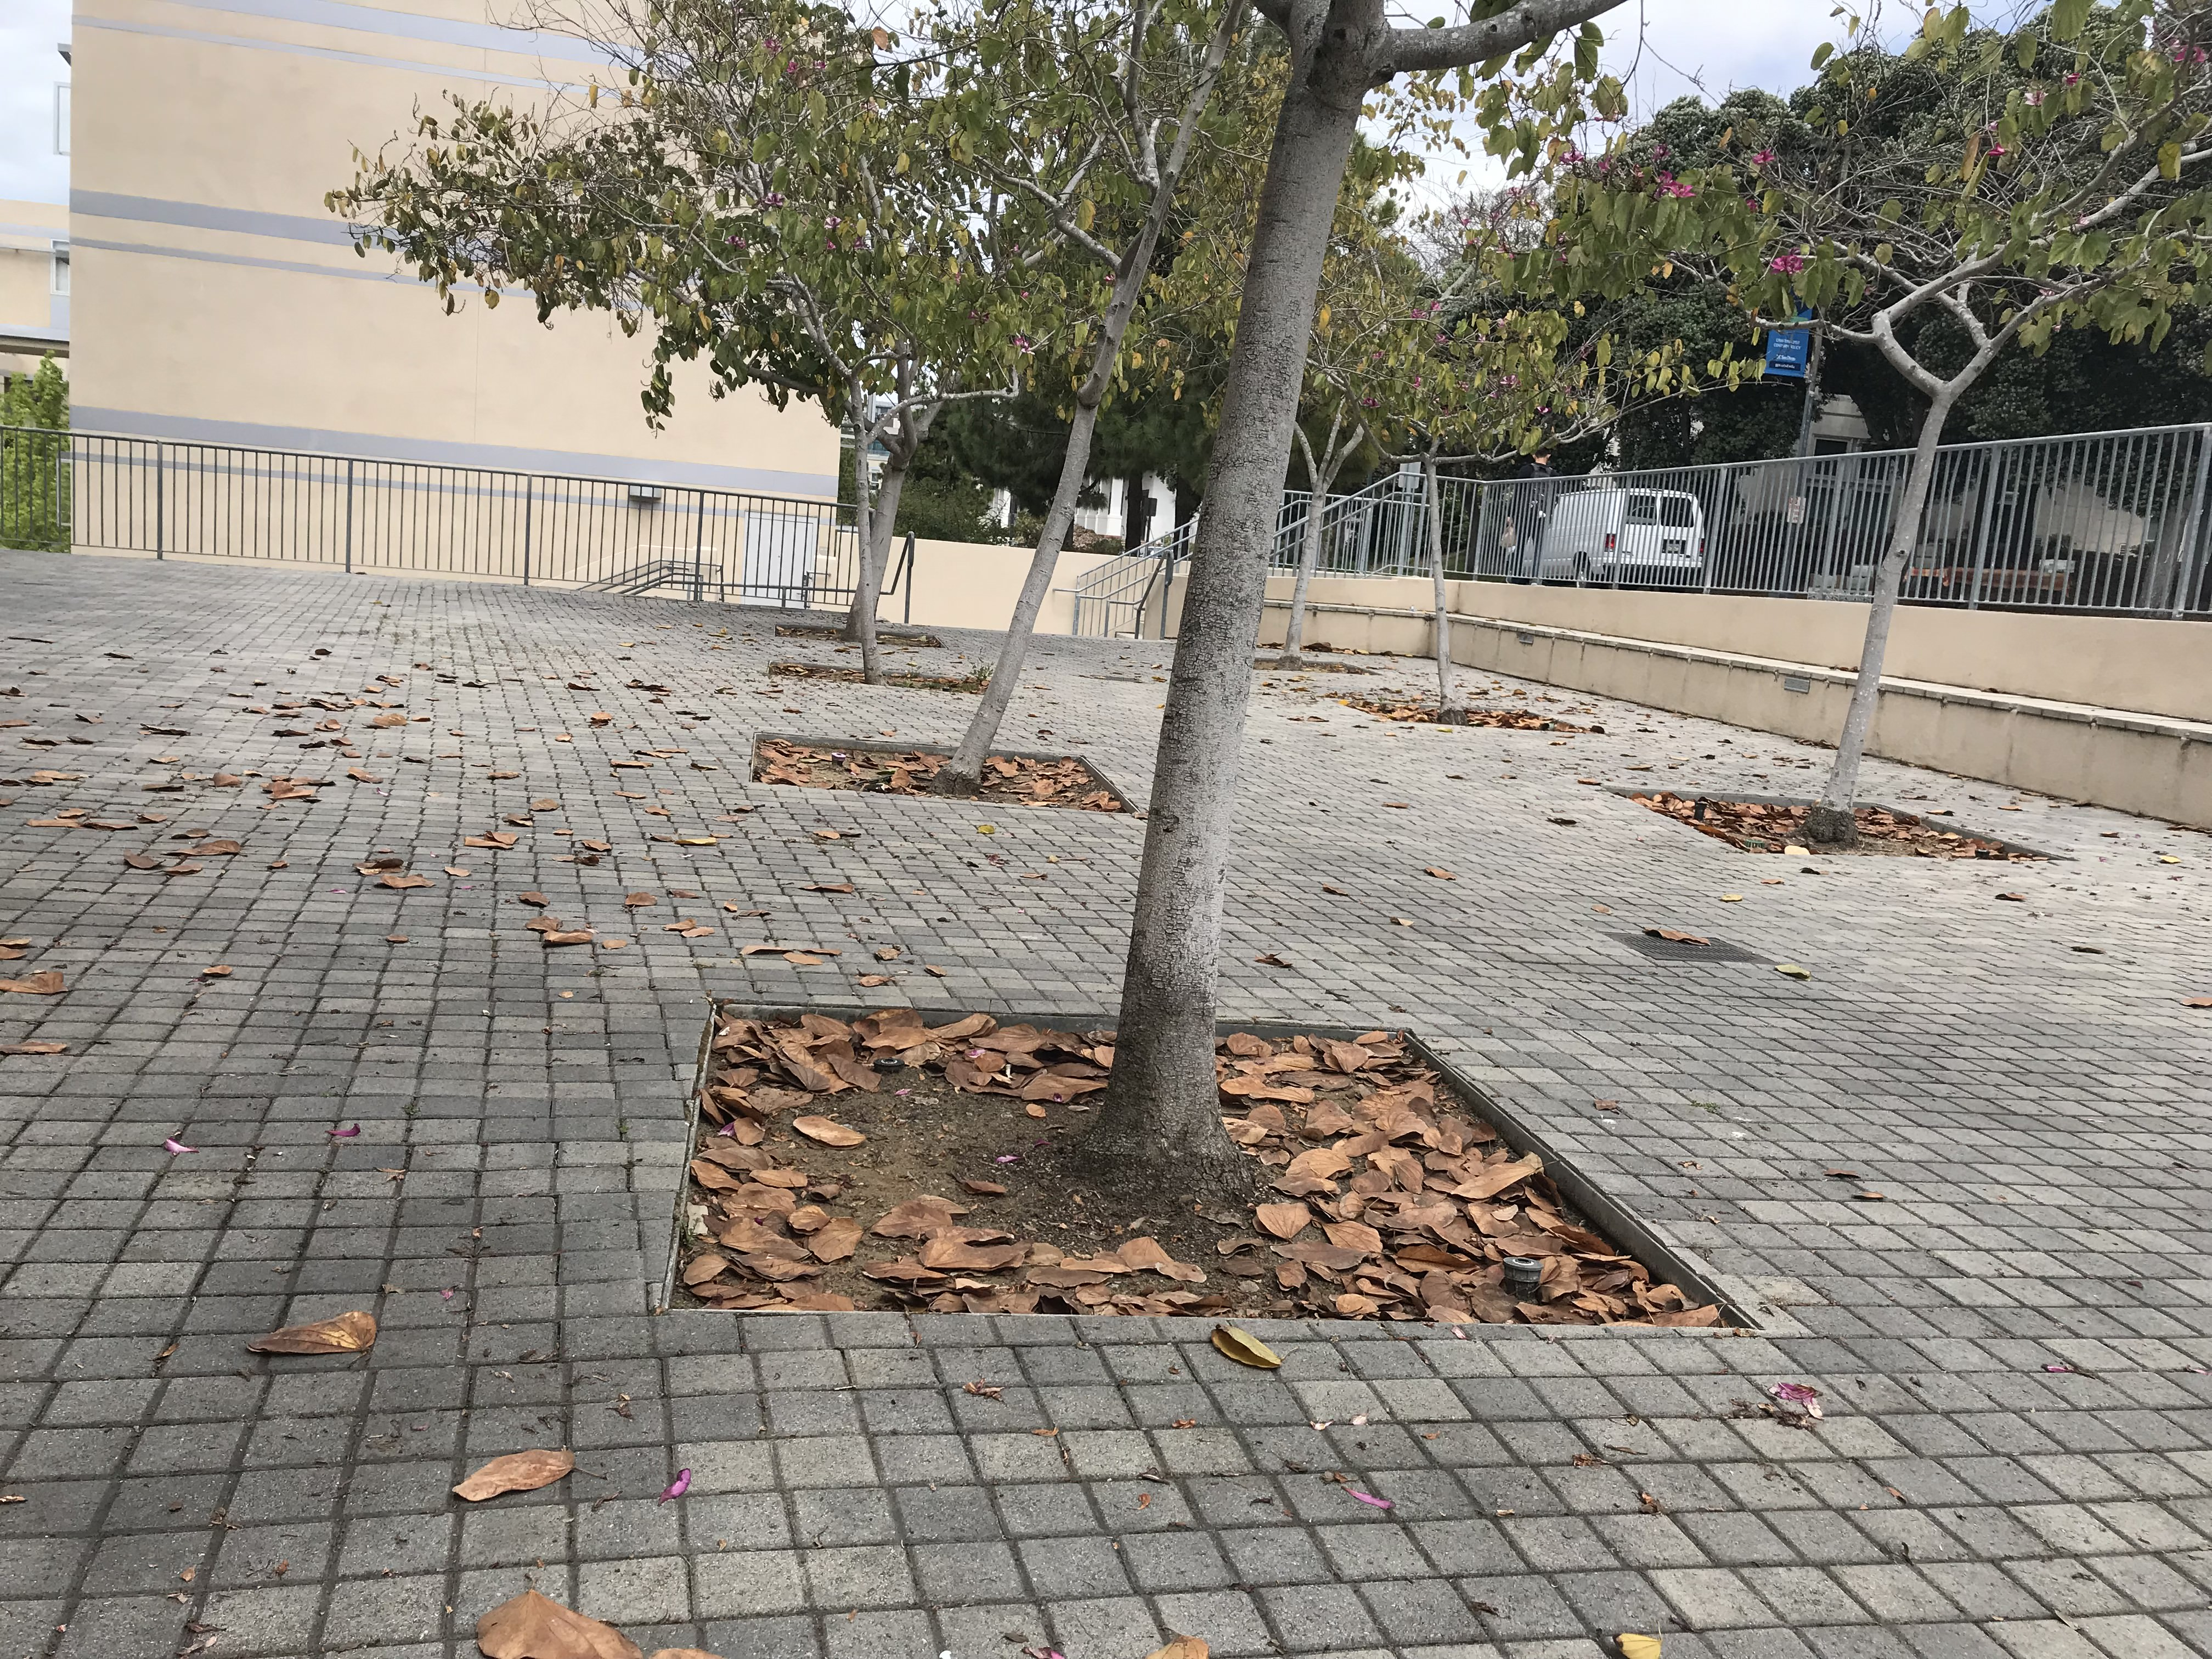Obstacle: (678, 850, 1747, 1363)
Uplift: (458, 1420, 1052, 1649)
